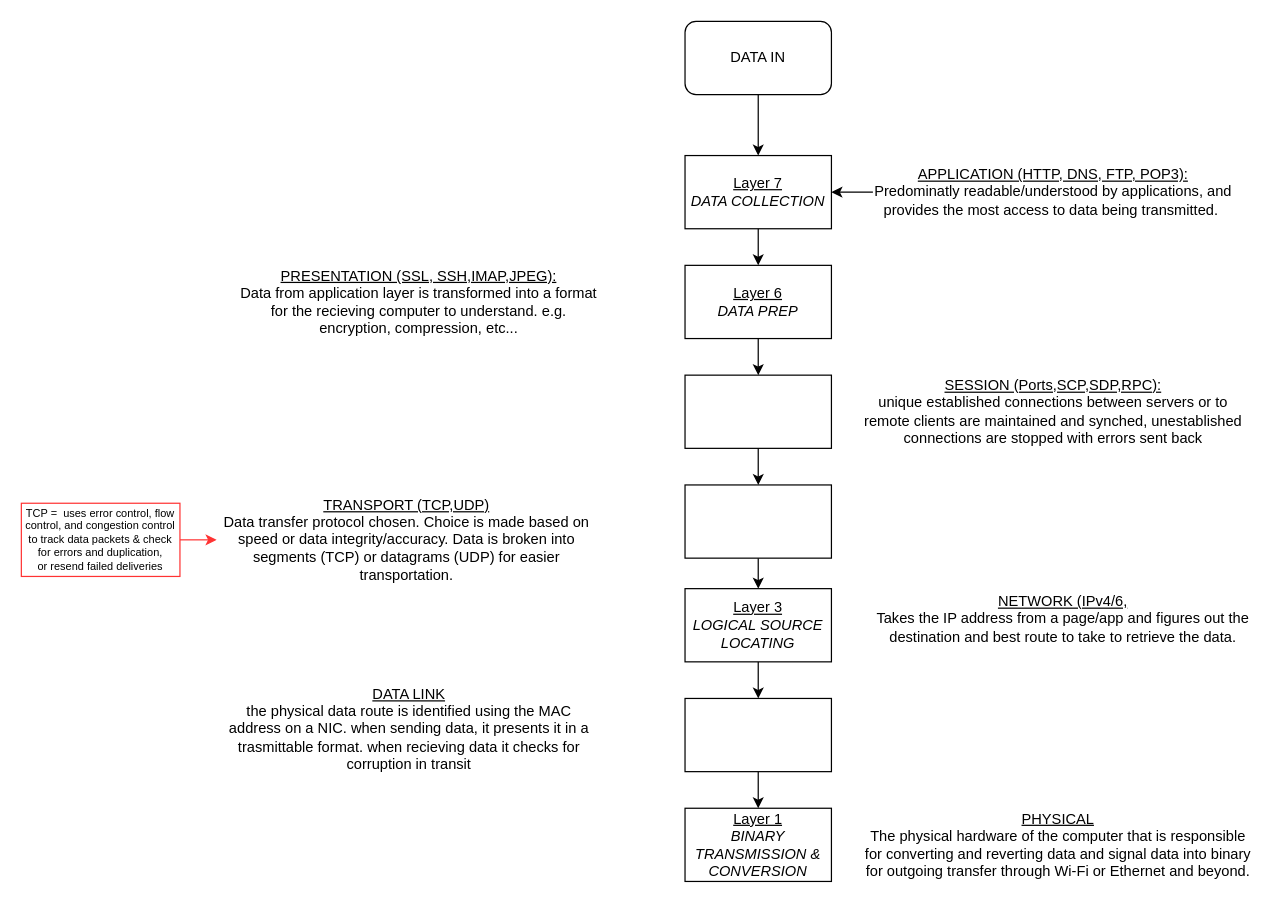
Some shapes in this 1275 by 903 pixel diagram are drawn without their labels. Here are the shapes that lost their labels. From the top down, the centre of each, then its label:
the point at 757,411: Layer 5 CONNECTION ESTABLISHMENT
the point at 757,521: Layer 4 DATA SENDING
the point at 757,734: Layer 2 PHYSICAL SOURCE LOCATING
